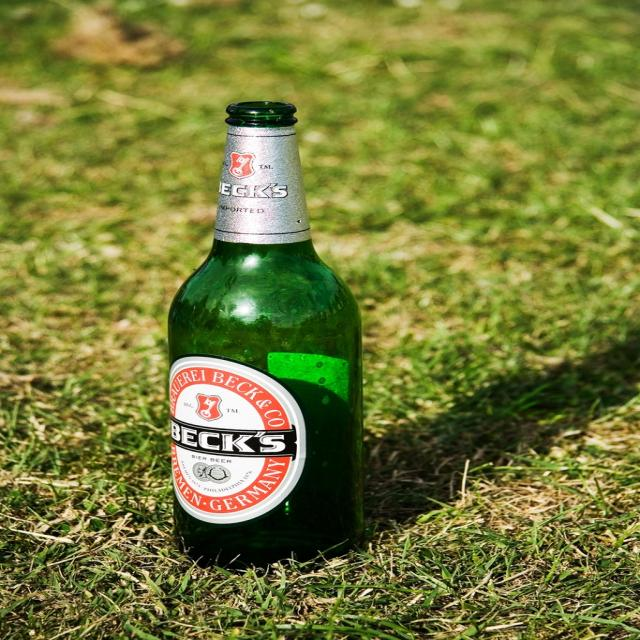becks: (168, 358, 307, 526)
